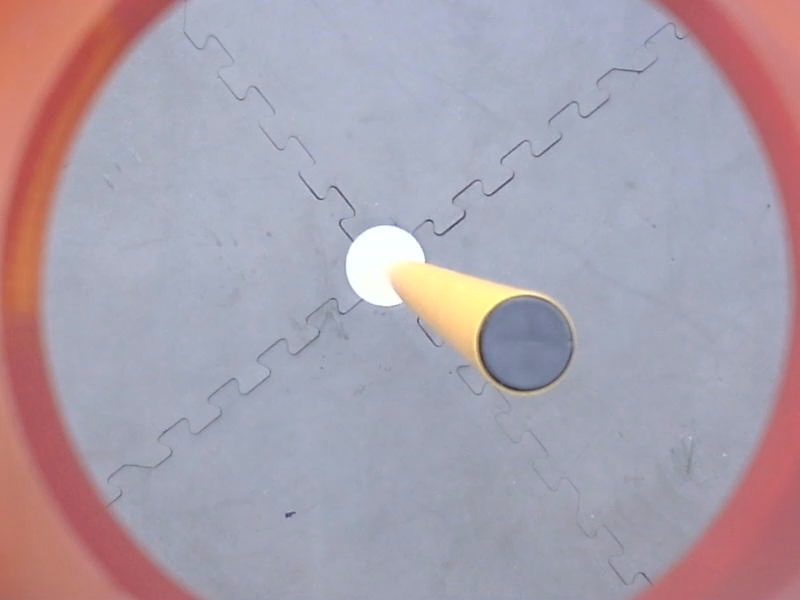tip: (468, 287, 583, 402)
